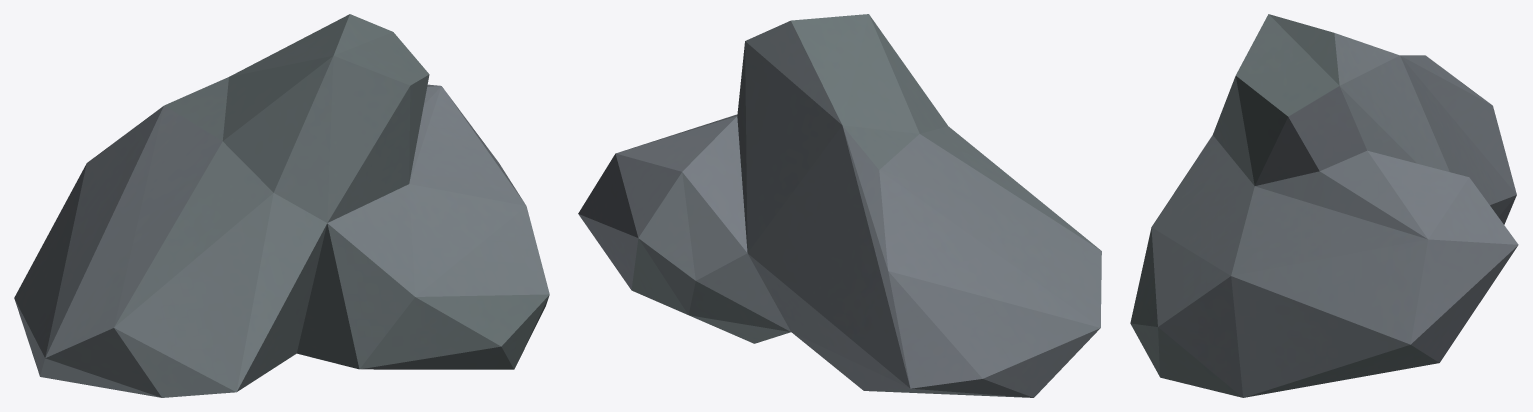
The model's file is Rock_Med_2.fbx.
The picture shows the model from 3 angles, left to right: view 1: azimuth 30°, elevation 25°; view 2: azimuth 150°, elevation 25°; view 3: azimuth 270°, elevation 25°; orthographic projection. The views are drawn at different scales.
Visible parts, largest first — view 1: Group29012; view 2: Group29012; view 3: Group29012.
Part boxes in pixels (x1,y1,x2,y2): Group29012: [14, 14, 549, 397]; Group29012: [578, 14, 1101, 397]; Group29012: [1130, 14, 1518, 397].
Bounding box in the file's own units: 404 × 250 × 272.
